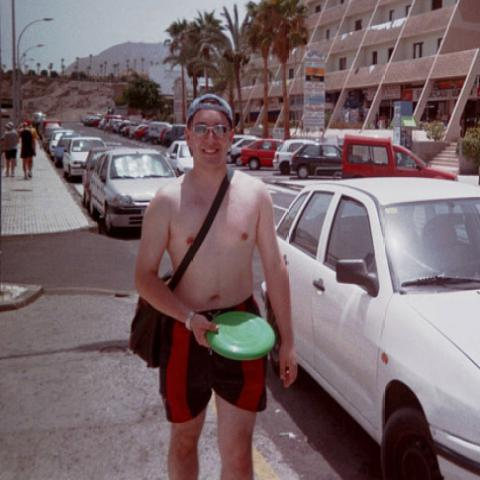car: (278, 177, 480, 475), (88, 148, 178, 240), (342, 135, 458, 180), (289, 143, 343, 181), (65, 137, 106, 182), (272, 139, 314, 177), (241, 138, 285, 170), (165, 139, 194, 177), (227, 138, 263, 166), (54, 134, 81, 167), (49, 130, 73, 156), (42, 128, 64, 152), (227, 135, 260, 151)
